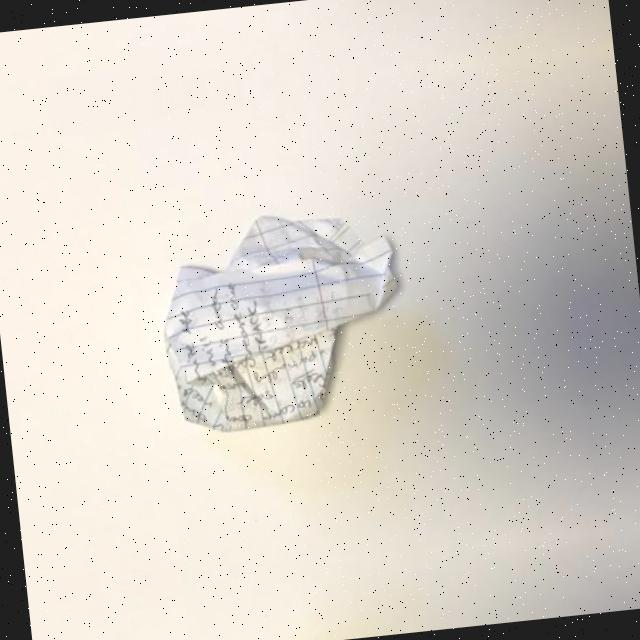paper: (114, 180, 435, 458)
